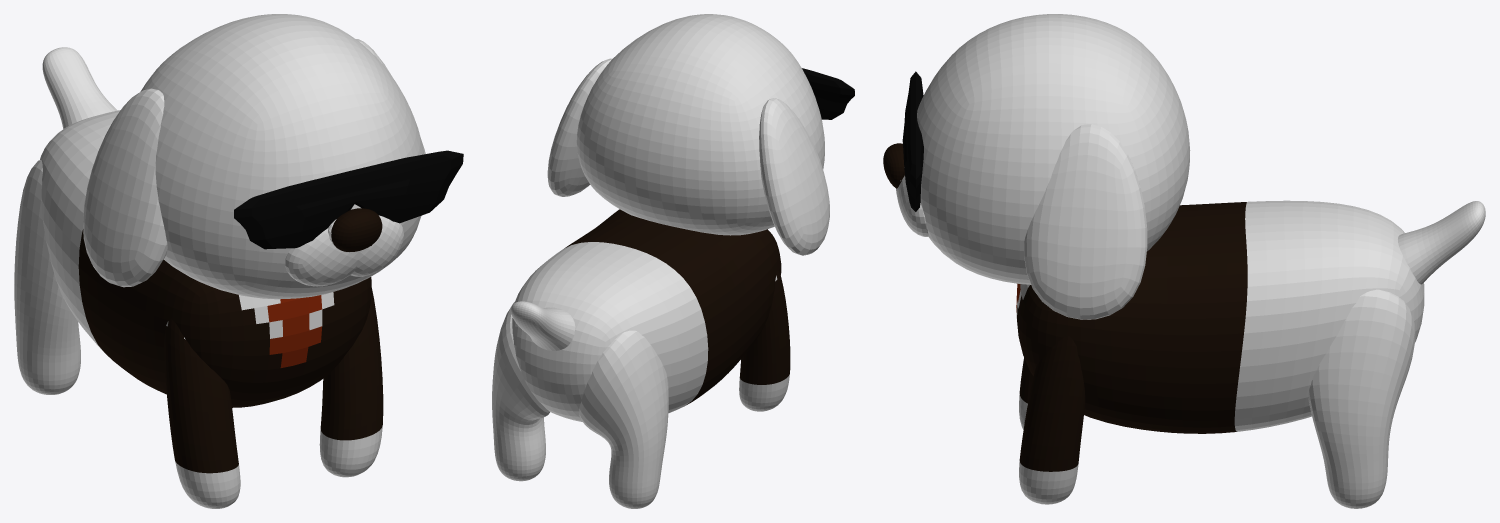
The model's file is newestggbond.fbx.
3 views of the same model, side by side, from view 1: azimuth 30°, elevation 25°; view 2: azimuth 150°, elevation 25°; view 3: azimuth 270°, elevation 25° (orthographic). The views are drawn at different scales.
Parts seen in each view (by area): view 1: Cube.001; view 2: Cube.001; view 3: Cube.001.
Boxes of the visible parts, x1,y1,x2,y2 form: Cube.001: (14,14,463,508); Cube.001: (492,14,854,508); Cube.001: (883,14,1485,508).
Size of the model in its own units: 108 by 149 by 182.
